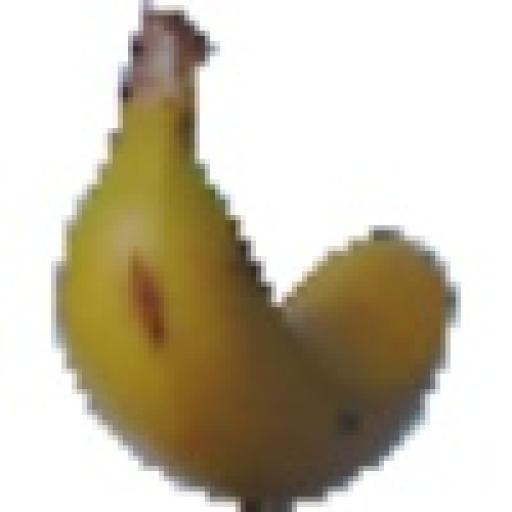banana: (57, 16, 348, 496), (282, 231, 450, 404)
